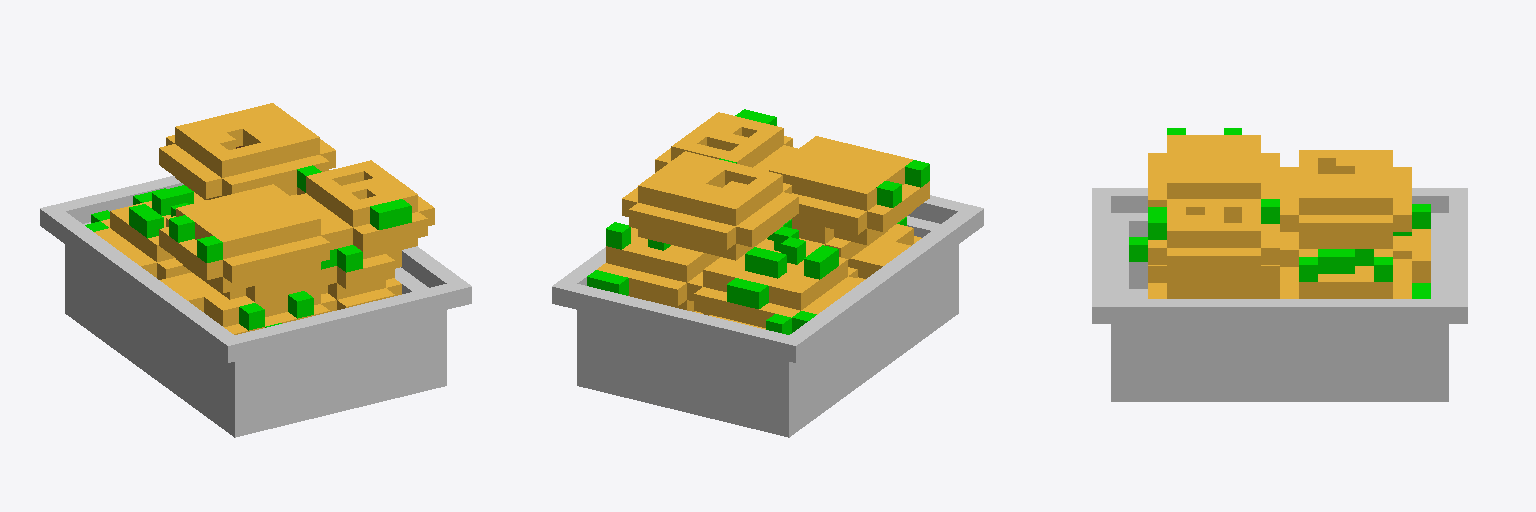
The picture shows the model from 3 angles: view 1: azimuth 30°, elevation 25°; view 2: azimuth 150°, elevation 25°; view 3: azimuth 270°, elevation 25°; orthographic projection.
Visible parts, largest first — view 1: object 1; view 2: object 1; view 3: object 1.
Boxes of the visible parts, x1,y1,x2,y2 form: object 1: [40, 103, 471, 437]; object 1: [552, 109, 983, 437]; object 1: [1092, 128, 1467, 401].
Size of the model in its own units: 1.5 by 1.1 by 2.
Materials: 1 (1 with a texture image).